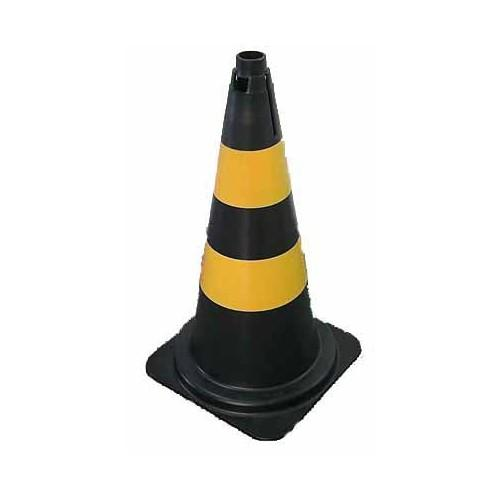traffic_cone: (145, 49, 362, 441)
